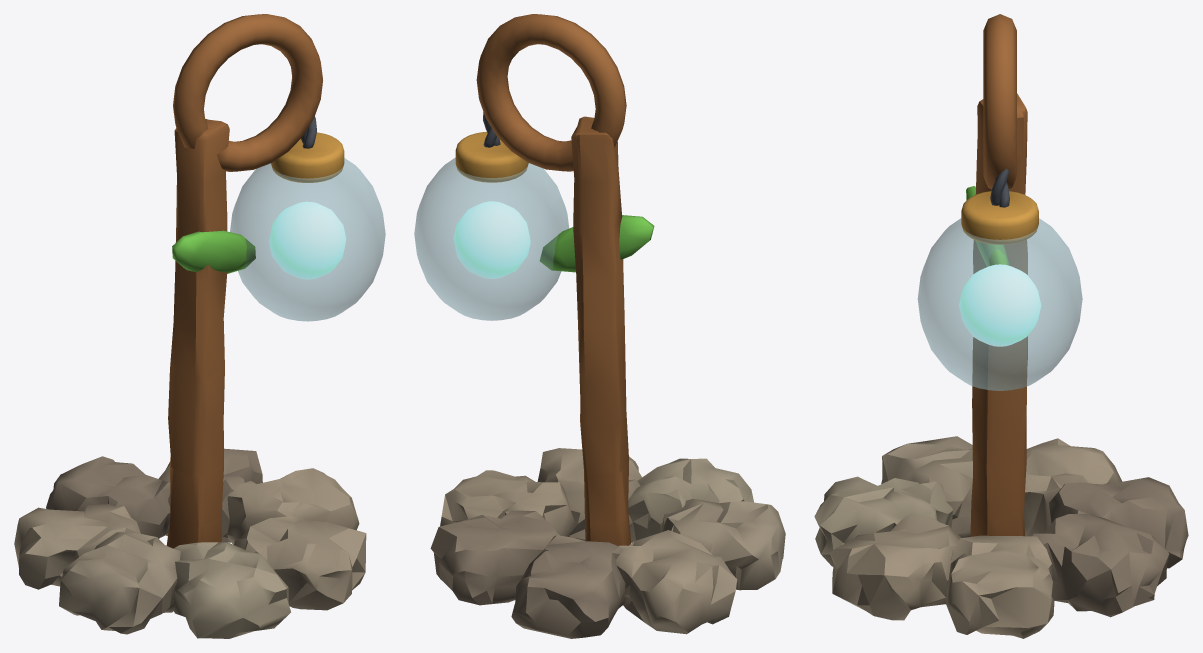
The model's file is int_checkpoint.glb.
3 renders of one model, left to right at view 1: azimuth 30°, elevation 25°; view 2: azimuth 150°, elevation 25°; view 3: azimuth 270°, elevation 25°, orthographic. The views are drawn at different scales.
Parts seen in each view (by area): view 1: int_checkpoint, lamp; view 2: int_checkpoint, lamp; view 3: int_checkpoint, lamp.
Part boxes in pixels (box(x1,y1,x2,y2)): int_checkpoint: box(14, 14, 366, 638); lamp: box(230, 158, 385, 321); int_checkpoint: box(430, 14, 785, 638); lamp: box(414, 157, 568, 320); int_checkpoint: box(814, 14, 1188, 638); lamp: box(917, 218, 1082, 390).
Size of the model in its own units: 1.68 by 2.63 by 1.54.
